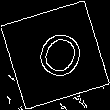O_SW: (24, 22, 86, 88)
